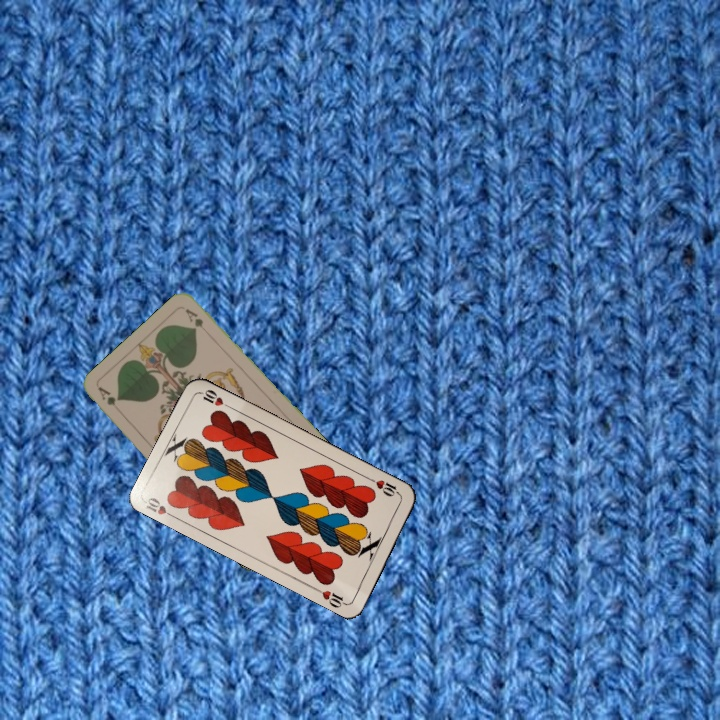GA: (94, 383, 125, 416)
H10: (141, 493, 179, 522), (366, 474, 404, 499)
